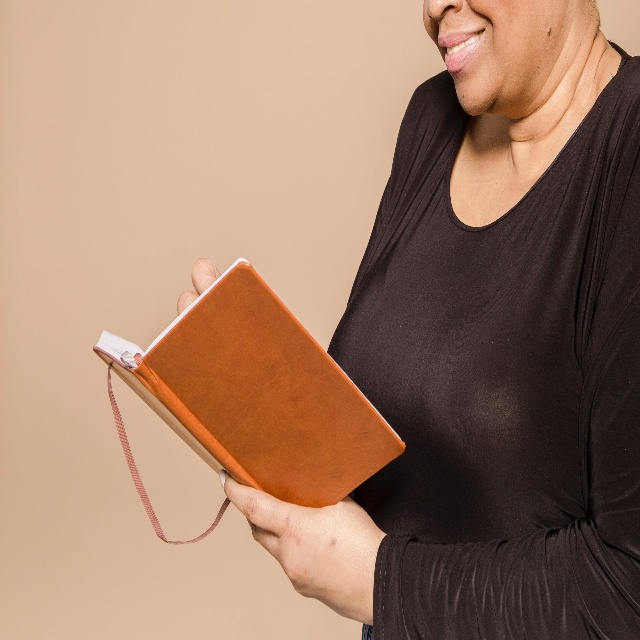Sin_guantes: (219, 466, 385, 626)
